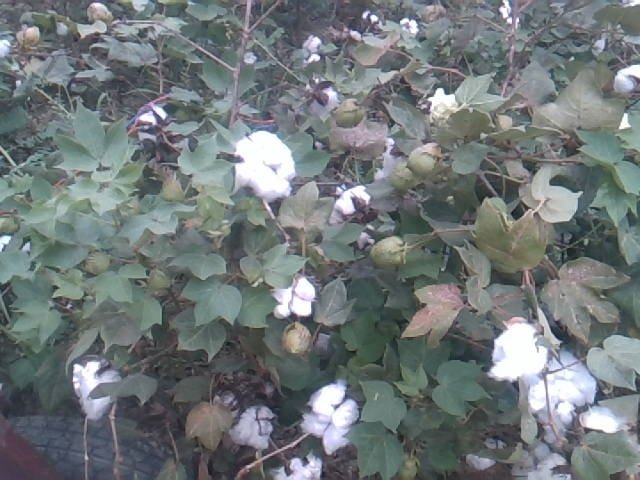cotton: (230, 126, 295, 202), (295, 379, 360, 453), (484, 315, 552, 381), (205, 390, 277, 451), (525, 351, 598, 411), (70, 355, 123, 423), (267, 271, 317, 320), (131, 101, 171, 144), (272, 452, 327, 480), (1, 226, 33, 266), (423, 88, 459, 119), (611, 60, 640, 98), (331, 188, 372, 214), (580, 409, 624, 431), (299, 33, 322, 66), (498, 1, 523, 27), (400, 20, 420, 35)
